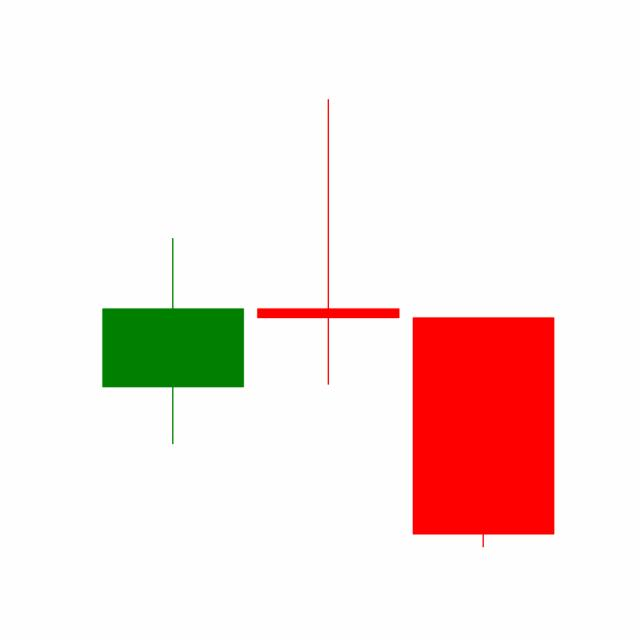Marubozu: (405, 315, 561, 550)
